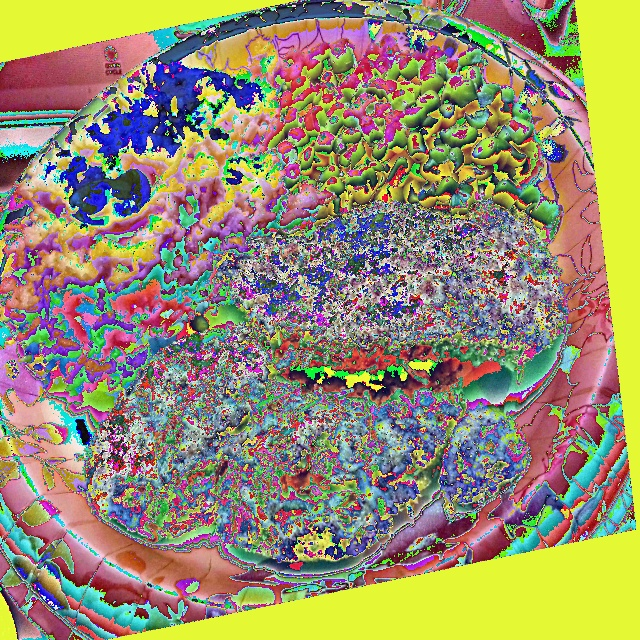background: (0, 34, 567, 563)
